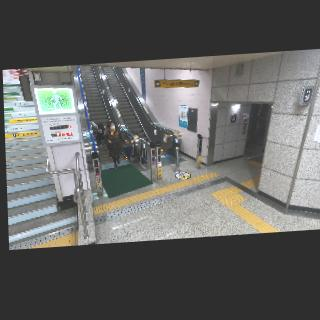anomaly: (86, 115, 108, 147)
normal: (105, 122, 128, 169)
